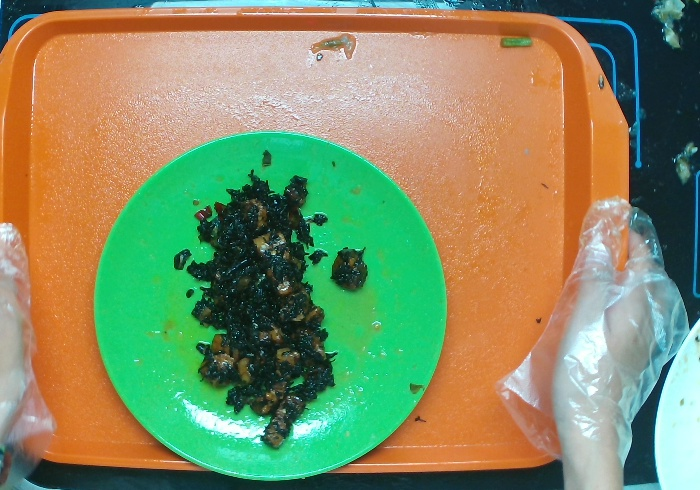HZYJPL-Lv_Se_Yuan_Pan: (91, 129, 448, 483)
